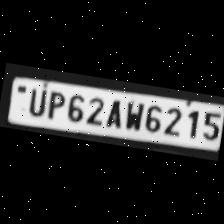1: (180, 106, 202, 139)
2: (82, 94, 108, 128), (160, 104, 185, 138)
5: (197, 107, 224, 142)
6: (62, 90, 87, 124), (140, 100, 164, 134)
A: (102, 96, 124, 128)
P: (44, 88, 66, 120)
U: (24, 84, 48, 118)
W: (121, 97, 145, 132)
